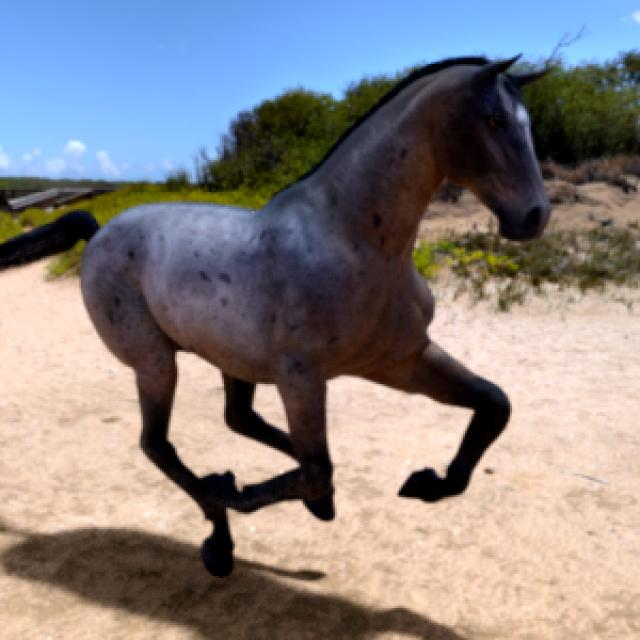horse: (0, 58, 550, 576)
